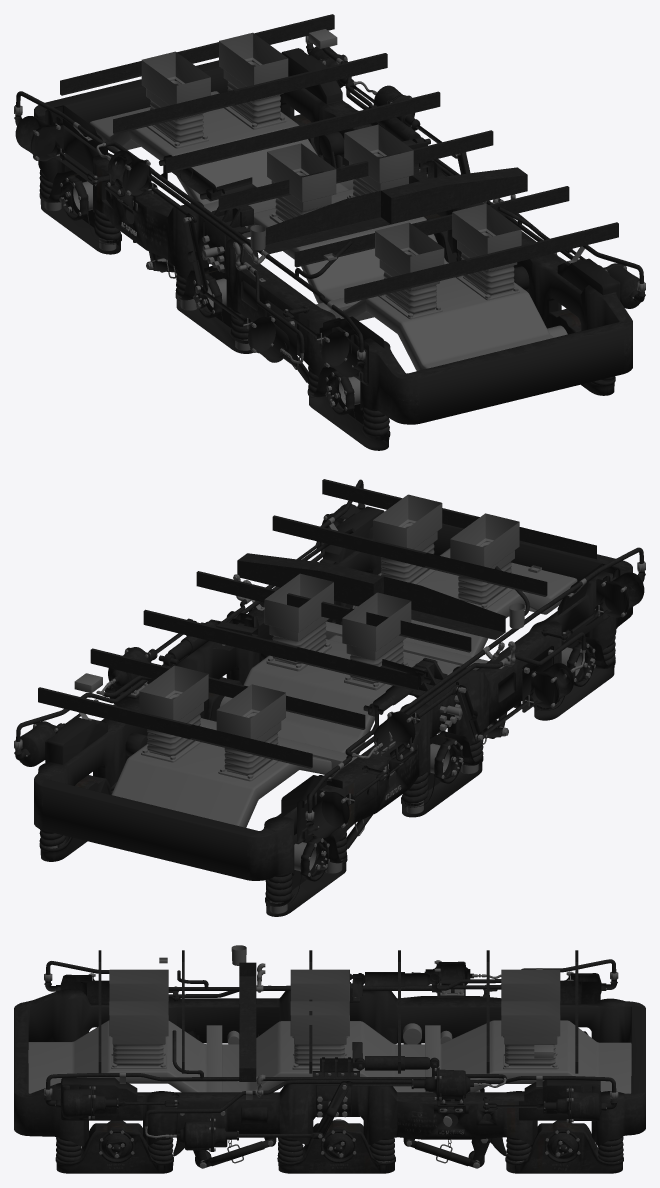
File: truck_front.glb
The picture shows the model from 3 angles, top to bottom: view 1: azimuth 30°, elevation 25°; view 2: azimuth 150°, elevation 25°; view 3: azimuth 270°, elevation 25°; orthographic projection. The views are drawn at different scales.
Visible parts, largest first — view 1: Truck_Front; view 2: Truck_Front; view 3: Truck_Front.
Part boxes in pixels (x1,y1,x2,y2): Truck_Front: (14, 14, 645, 450); Truck_Front: (14, 479, 645, 916); Truck_Front: (14, 945, 645, 1173).
Bounding box in the file's own units: 2.65 × 1.34 × 5.45.
3 materials, 2 textured.
